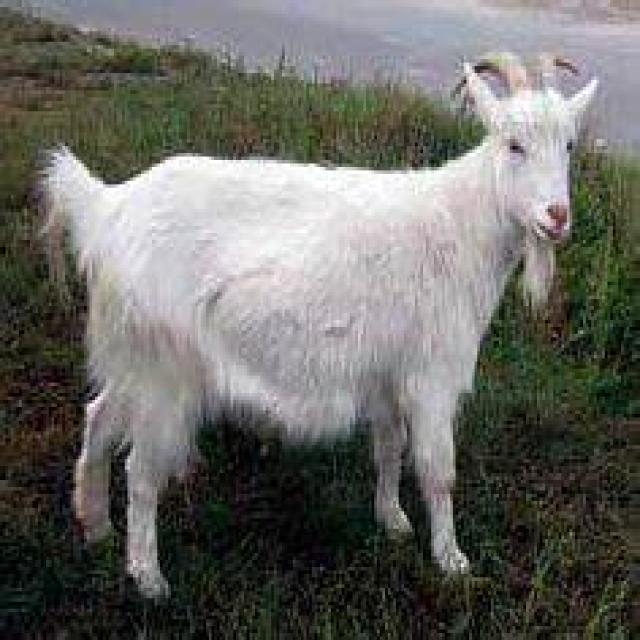animal: (32, 49, 600, 602)
